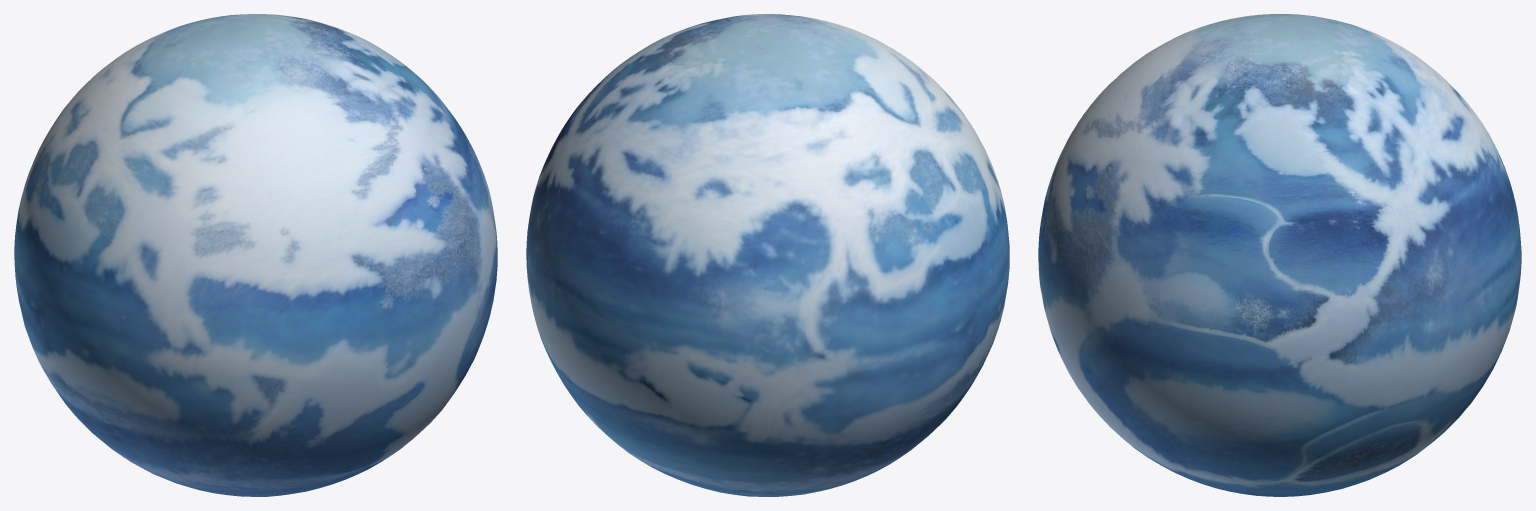
The model's file is Tropical_EarthLike_Planet.glb.
3 renders of one model, left to right at view 1: azimuth 30°, elevation 25°; view 2: azimuth 150°, elevation 25°; view 3: azimuth 270°, elevation 25°, orthographic.
Bounding box in the file's own units: 2 × 2 × 2.
1 material, 1 textured.
